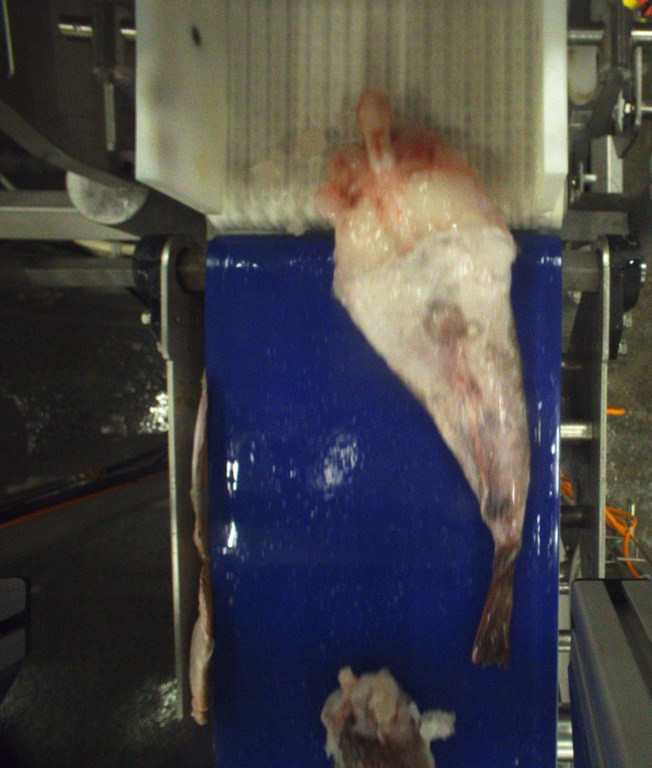ANF: (318, 666, 451, 768)
